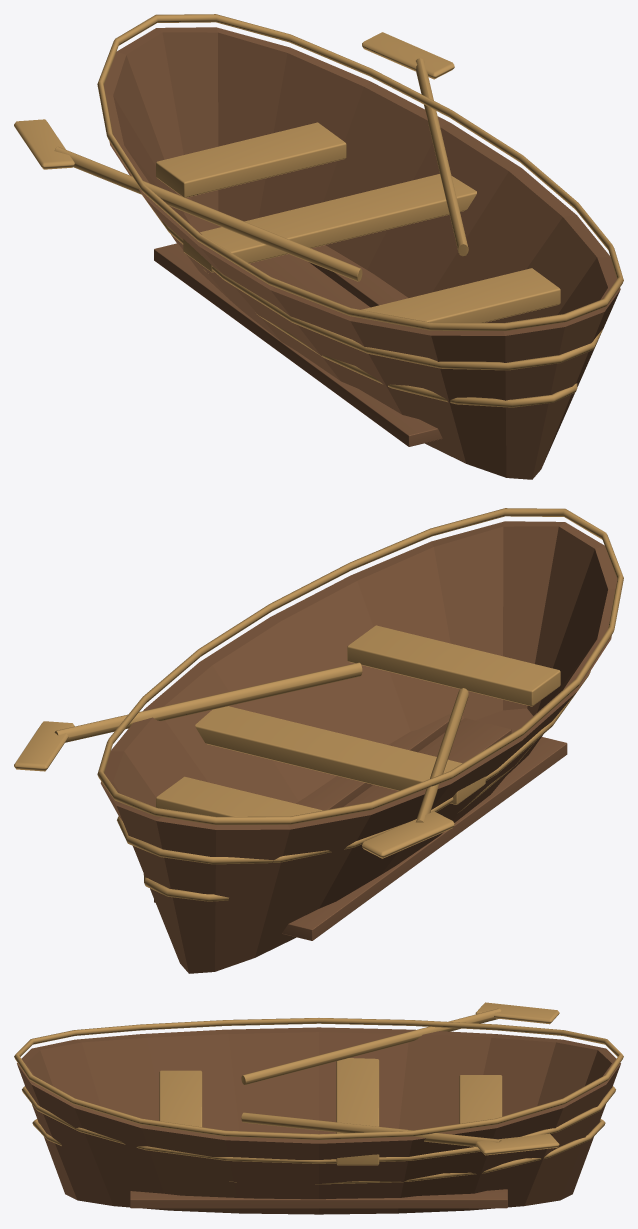
File: S092_rowboat_shell_rebuilt.glb
3 views of the same model, one above another, from view 1: azimuth 30°, elevation 25°; view 2: azimuth 150°, elevation 25°; view 3: azimuth 270°, elevation 25° (orthographic). The views are drawn at different scales.
Parts seen in each view (by area): view 1: wood, edge; view 2: wood, edge; view 3: wood, edge.
Boxes of the visible parts, bbox=[...] form: wood: bbox=[104, 27, 620, 479]; edge: bbox=[14, 14, 623, 407]; wood: bbox=[100, 521, 617, 973]; edge: bbox=[14, 508, 623, 901]; wood: bbox=[17, 1027, 620, 1214]; edge: bbox=[14, 1002, 623, 1184].
Size of the model in its own units: 1.62 by 0.709 by 2.8.
